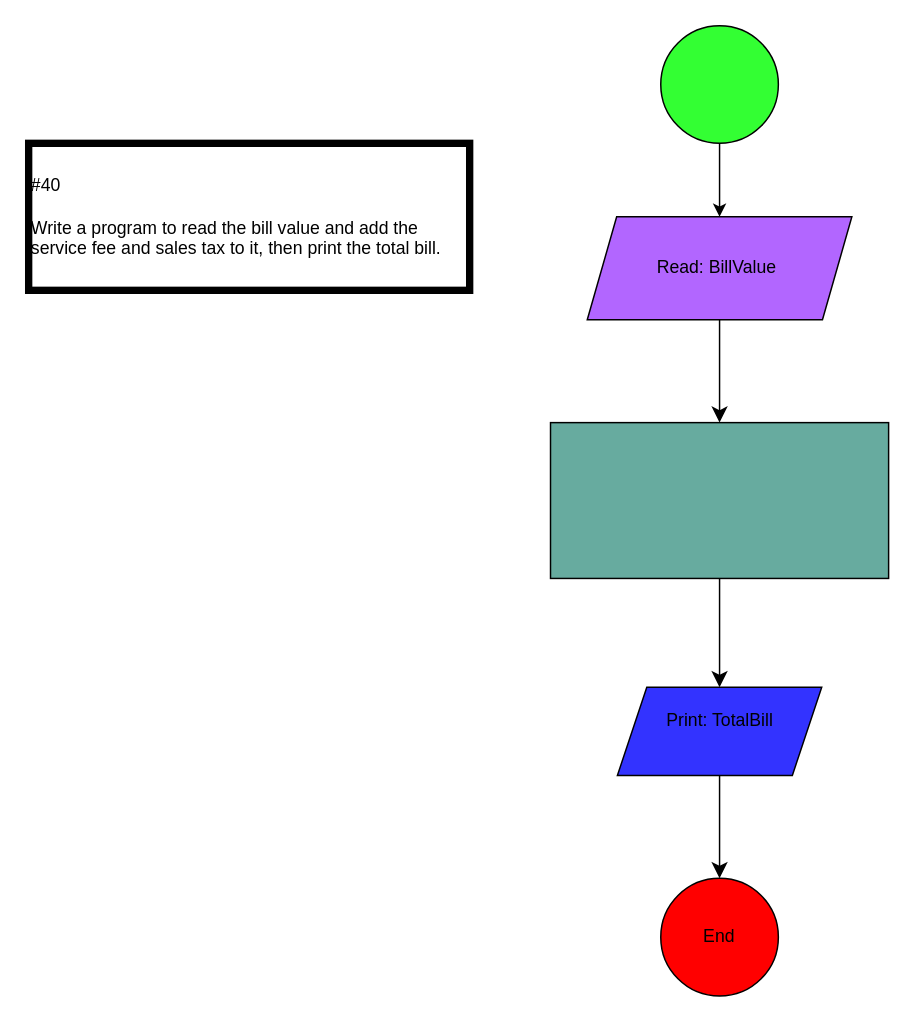
Some shapes in this 914 by 1022 pixel diagram are drawn without their labels. Each missing label, with the centre of its shape:
"Start" belongs at pixel 718 83.
"TotalBill = BillValue * 1.1 TotalBill = TotalBill * 1.16" belongs at pixel 719 499.
